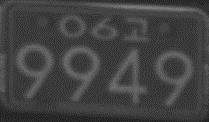0: (58, 14, 86, 39)
4: (107, 48, 147, 104)
6: (90, 15, 117, 41)
9: (154, 49, 194, 106), (15, 43, 53, 99), (61, 45, 100, 99)
고: (122, 17, 148, 41)
